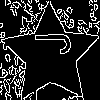J: (25, 29, 71, 57)
